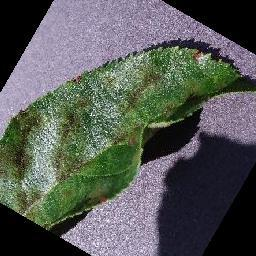apple healthy: (0, 41, 244, 231)
